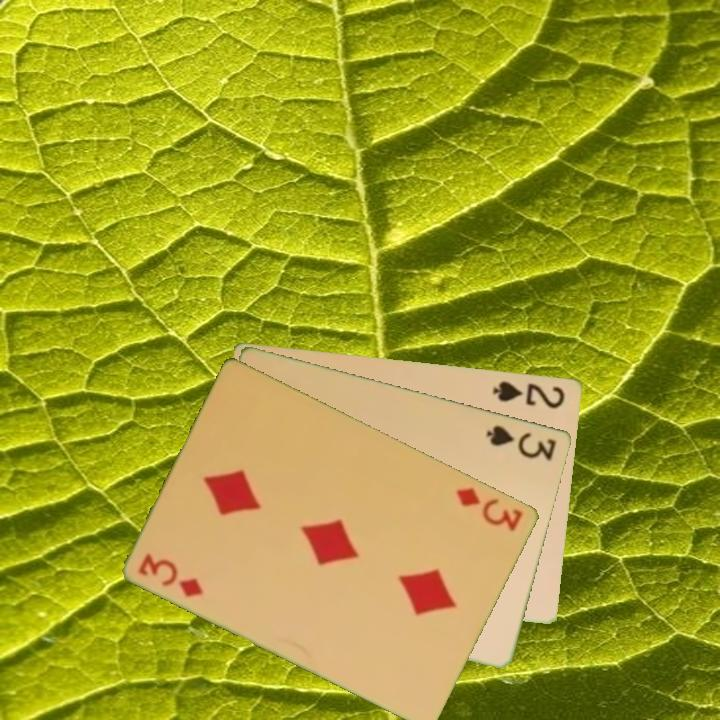2s: (490, 377, 568, 411)
3d: (453, 483, 526, 534), (135, 549, 207, 600)
3s: (483, 421, 560, 463)
